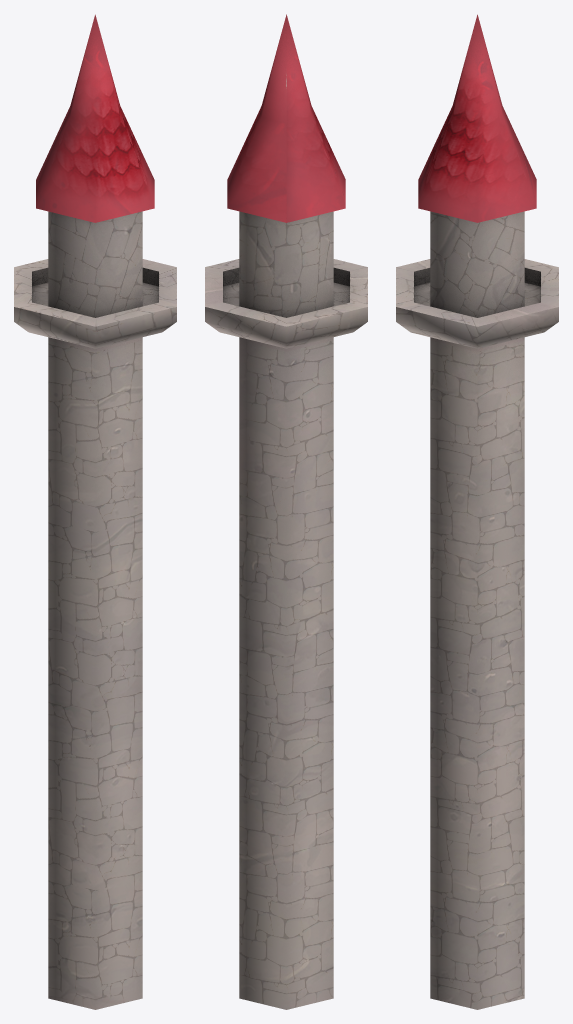
Rendered from Castillo_torre_delgada.fbx.
3 views of the same model, side by side, from view 1: azimuth 30°, elevation 25°; view 2: azimuth 150°, elevation 25°; view 3: azimuth 270°, elevation 25° (orthographic).
Visible parts, largest first — view 1: Obj_Torre_delagada; view 2: Obj_Torre_delagada; view 3: Obj_Torre_delagada.
Part boxes in pixels (x1,y1,x2,y2): Obj_Torre_delagada: [14, 14, 176, 1009]; Obj_Torre_delagada: [205, 14, 367, 1009]; Obj_Torre_delagada: [396, 14, 558, 1009].
Bounding box in the file's own units: 383 × 2188 × 332.
